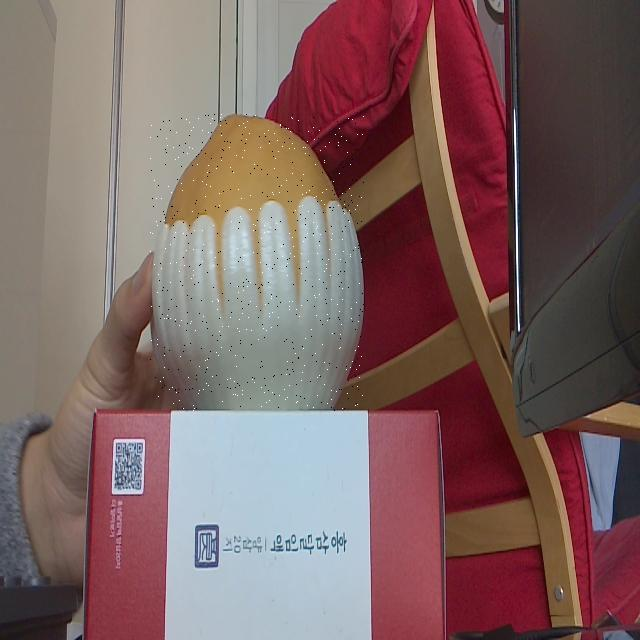pear: (150, 114, 364, 411)
